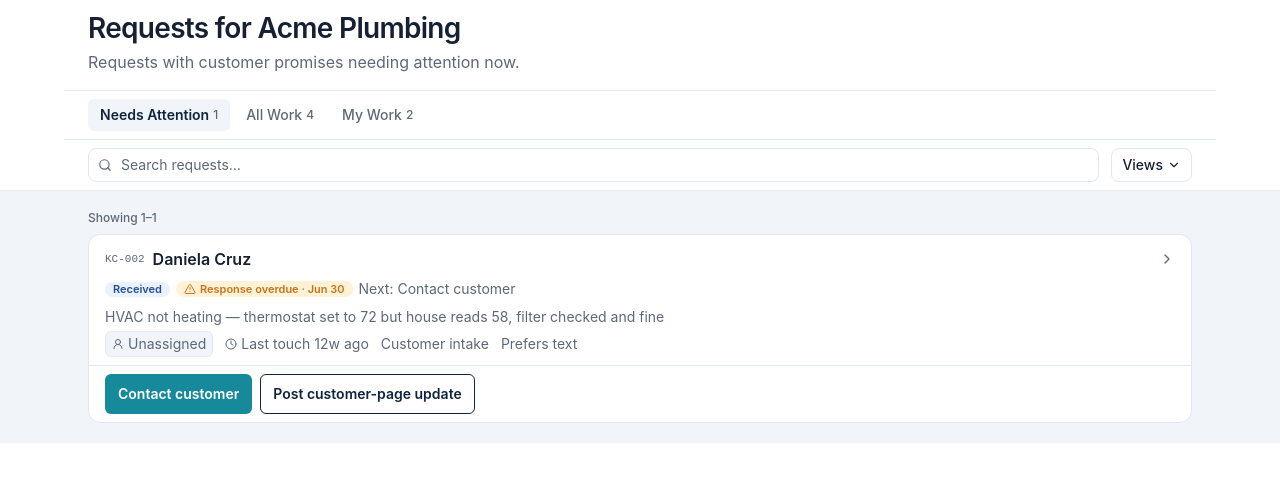
Test: Requests — GAP-041 queue-transition stability › returns cached tab content immediately with no skeleton on revisit
This screenshot has width=1280, height=500.
Expected: the text "Daniela Cruz" is shown, [153, 247, 251, 271]
Click the tab "All Work 4" at (280, 115), box [234, 99, 326, 131]
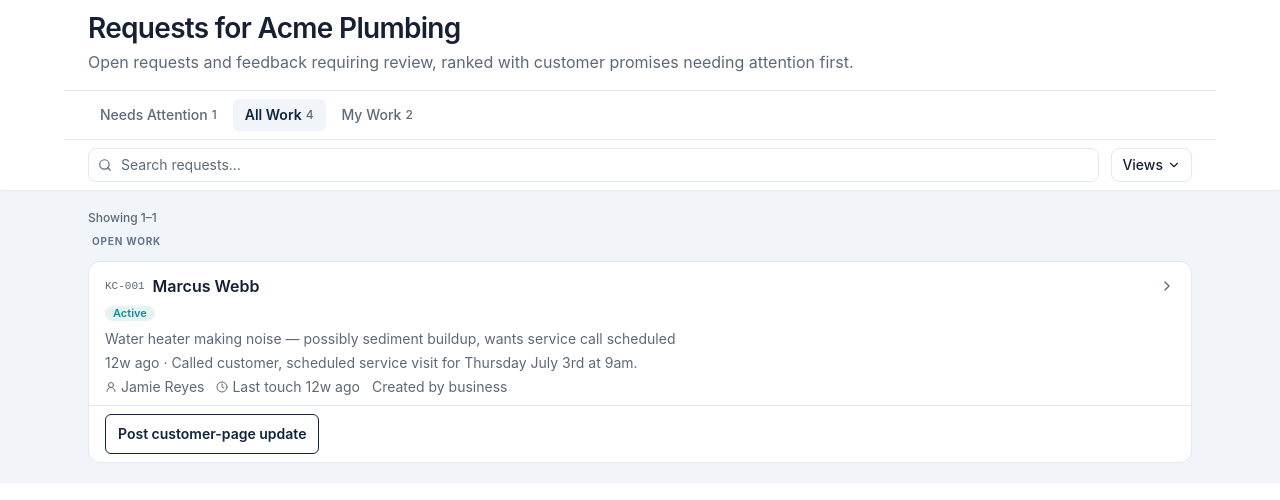
Expected: the text "Marcus Webb" is shown, [153, 274, 259, 298]
Click the tab "Needs Attention 1" at (158, 115), box [88, 99, 229, 131]
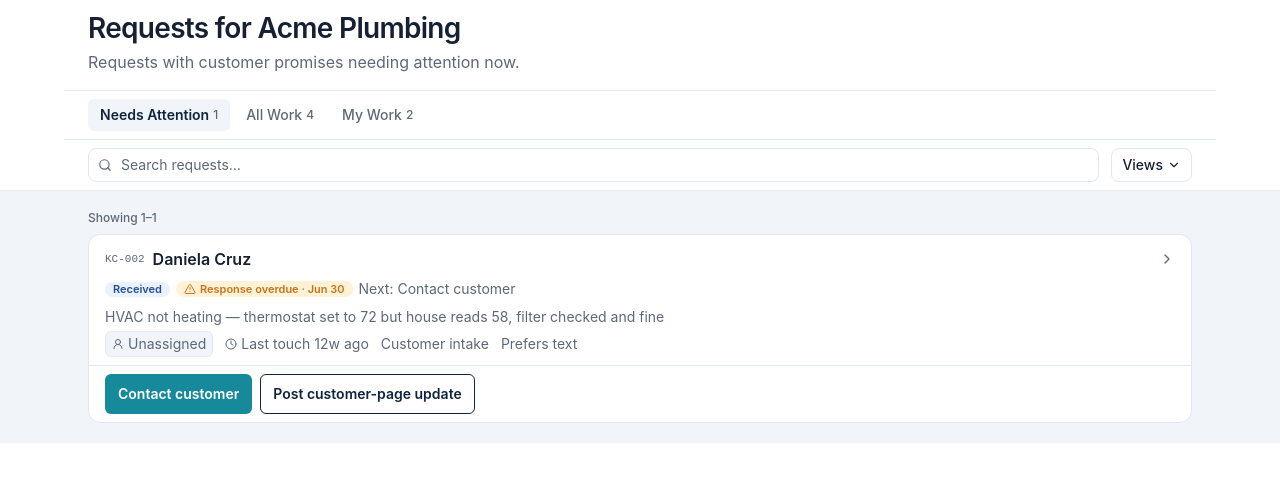
Expected: the text "Daniela Cruz" is shown, [153, 247, 251, 271]
